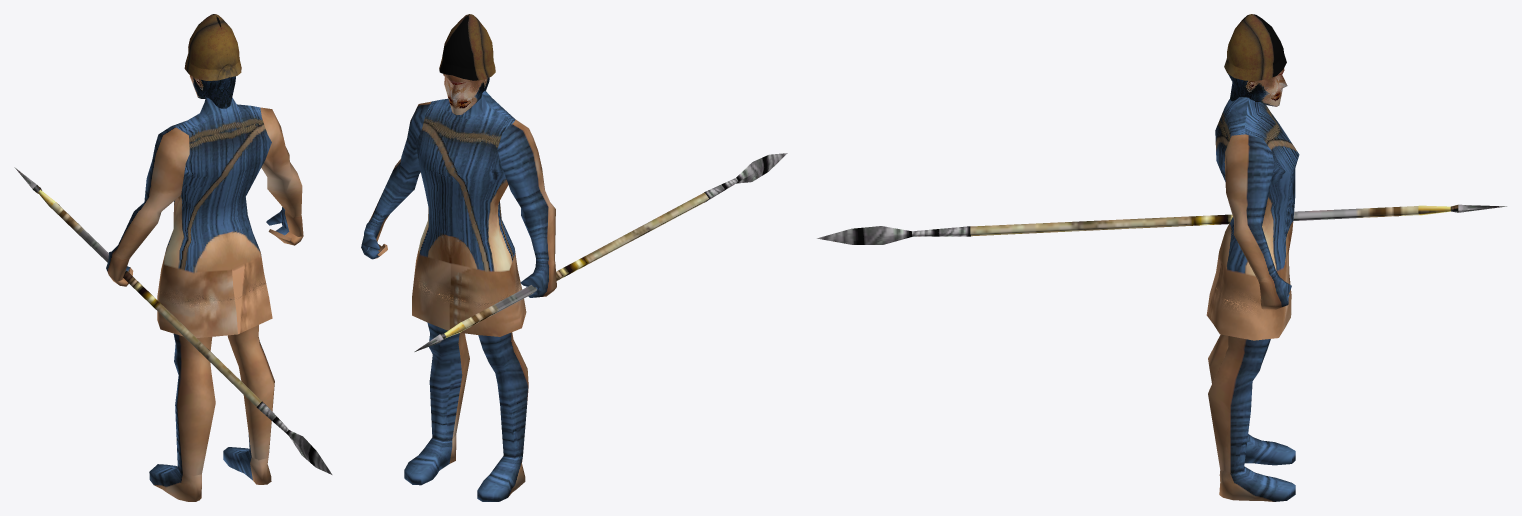
The model's file is spearman.glb.
The picture shows the model from 3 angles, left to right: view 1: azimuth 30°, elevation 25°; view 2: azimuth 150°, elevation 25°; view 3: azimuth 270°, elevation 25°; orthographic projection.
Visible parts, largest first — view 1: spearman; view 2: spearman; view 3: spearman.
Boxes of the visible parts, x1,y1,x2,y2 form: spearman: (14, 14, 332, 501); spearman: (361, 14, 787, 501); spearman: (817, 14, 1506, 501).
Size of the model in its own units: 0.7928 by 1.8 by 2.43.
4 materials, 4 textured.
